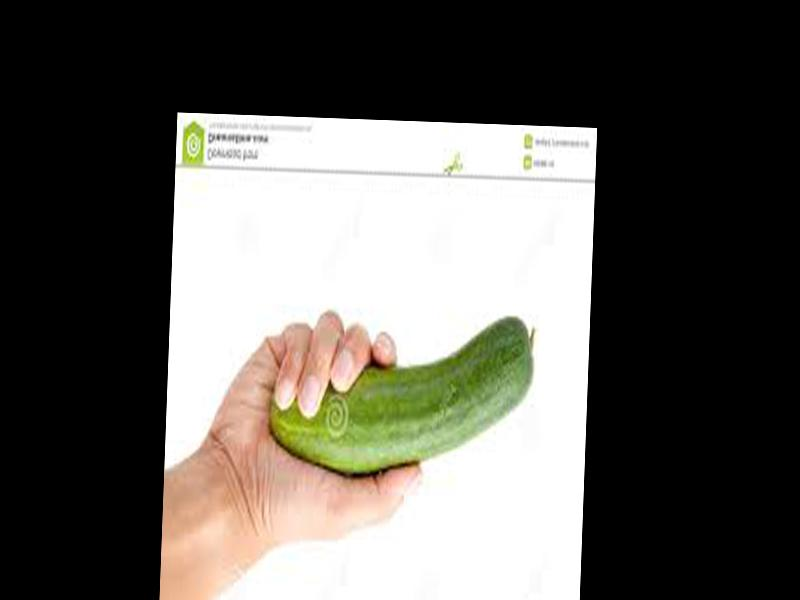Cucumber: (268, 307, 536, 476)
